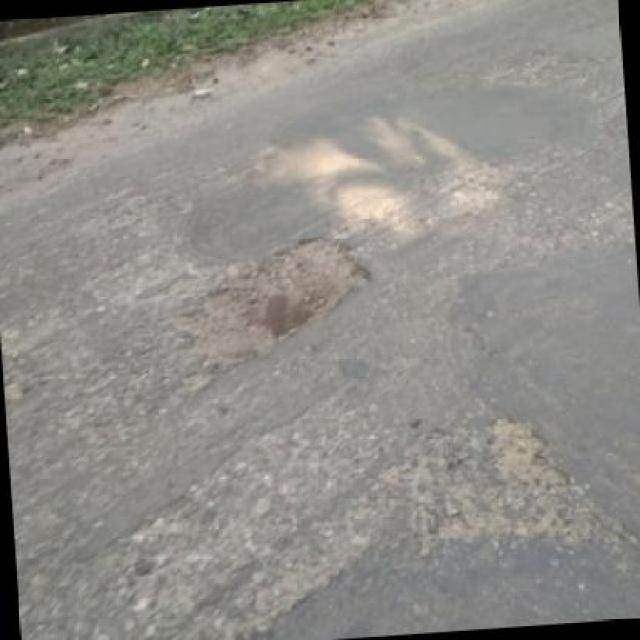pothole: (164, 232, 382, 374), (487, 406, 575, 497)
